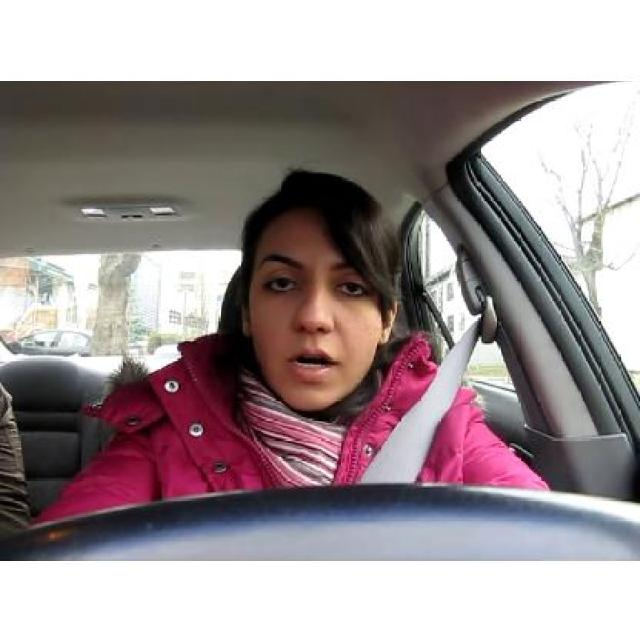inattentif: (238, 167, 398, 408)
